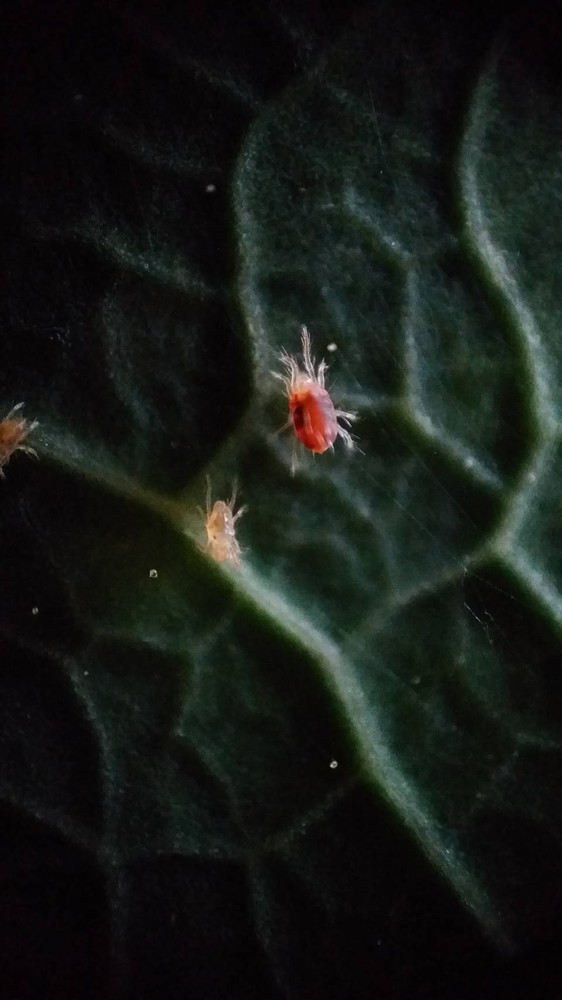Aracnido Rojo: (245, 312, 378, 483), (177, 475, 266, 569), (1, 386, 57, 480)
